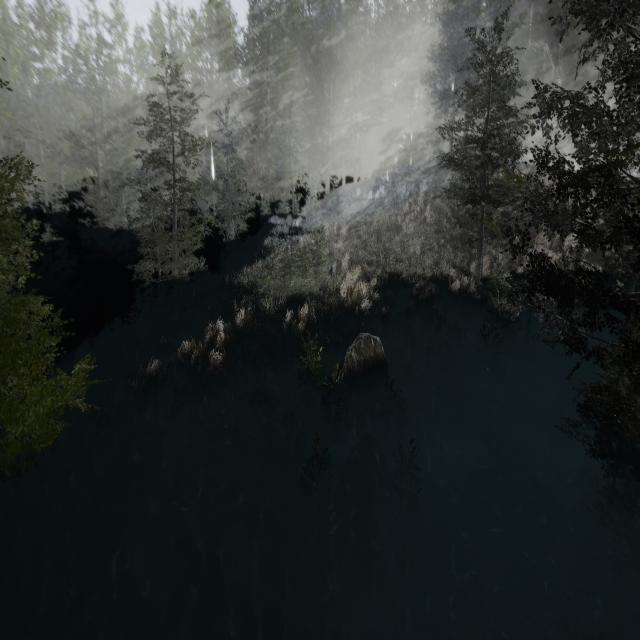Human: (306, 304, 320, 332)
